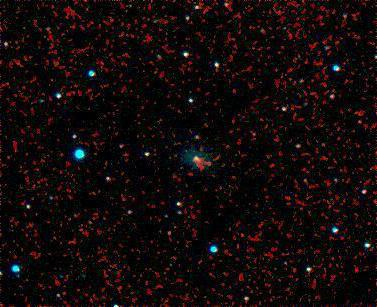star: (196, 148, 226, 178)
